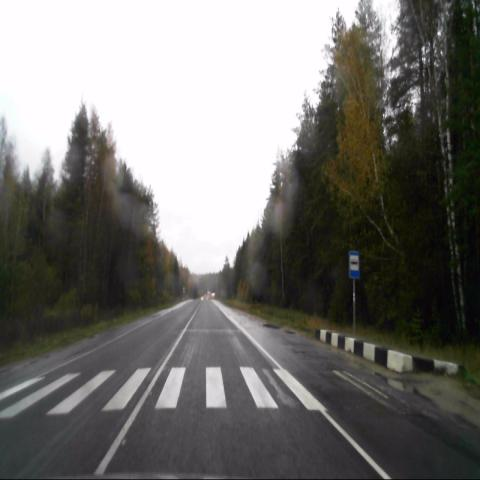5_16: (349, 251, 360, 279)
